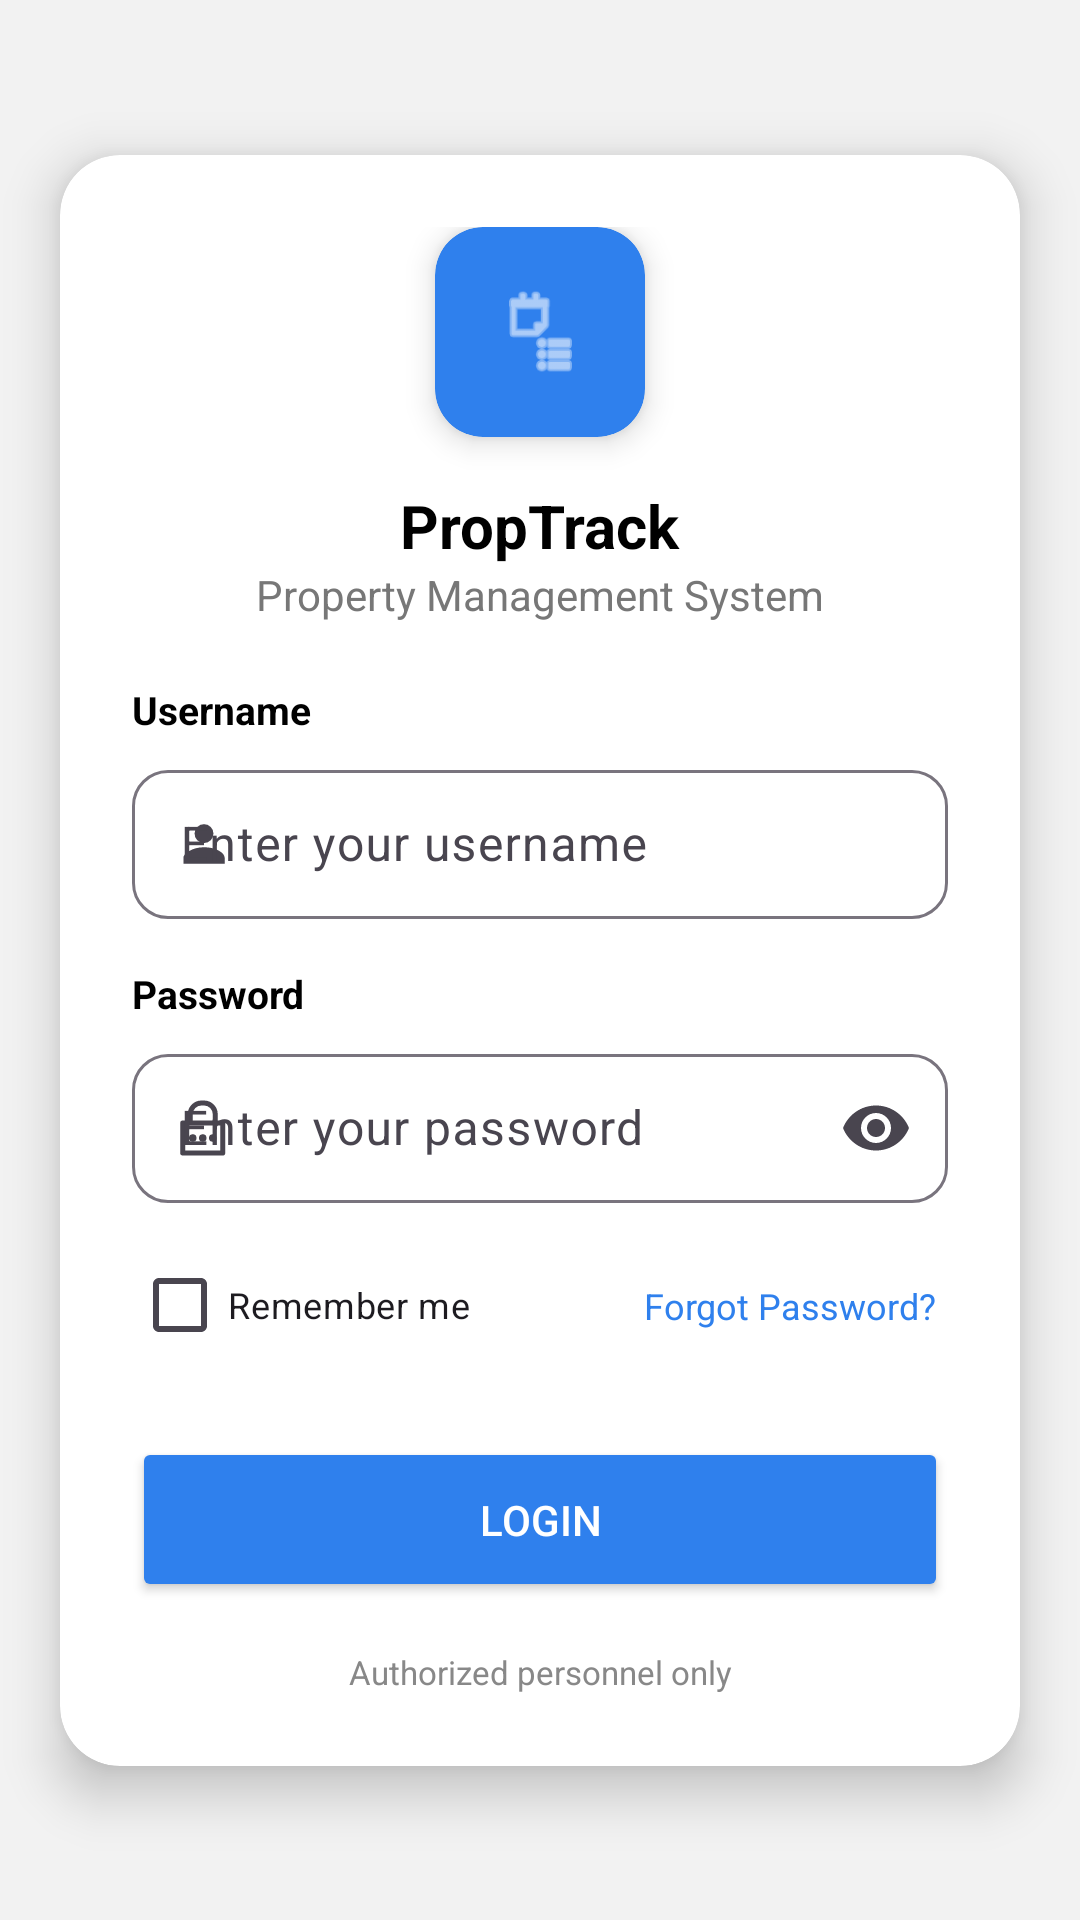

Named icons in this screenshot (1080x1920) and their bounding boxes, bbox=[x1, y1, x2, y2]:
agenda: bbox=[509, 291, 572, 372]
